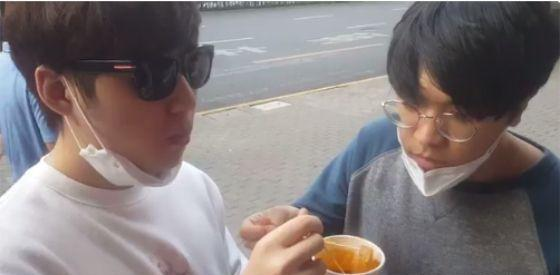WRONG: (78, 50, 201, 183), (391, 74, 504, 187)
